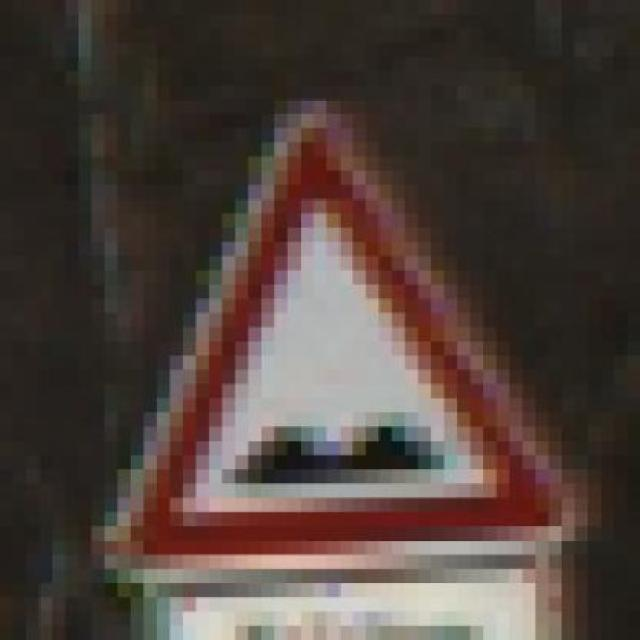Uneven Road: (89, 100, 586, 568)
